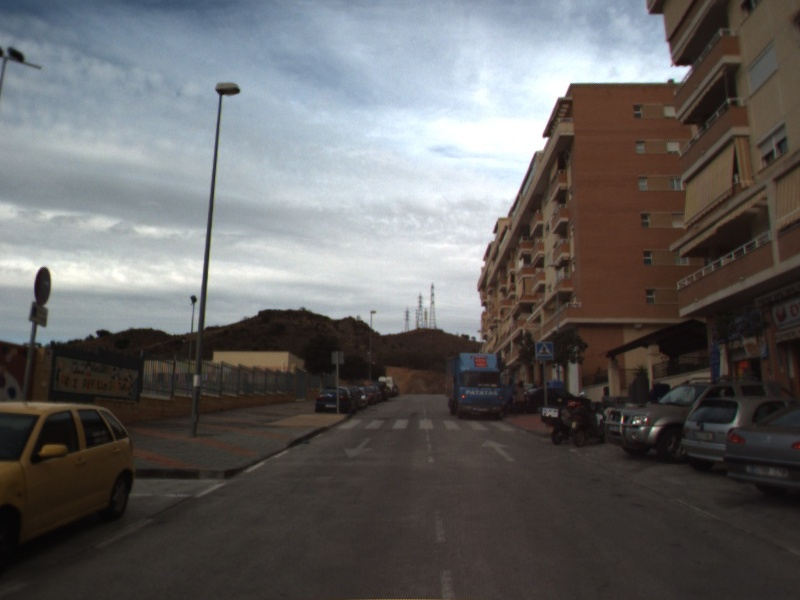STRAIGHT: (479, 437, 517, 464)
